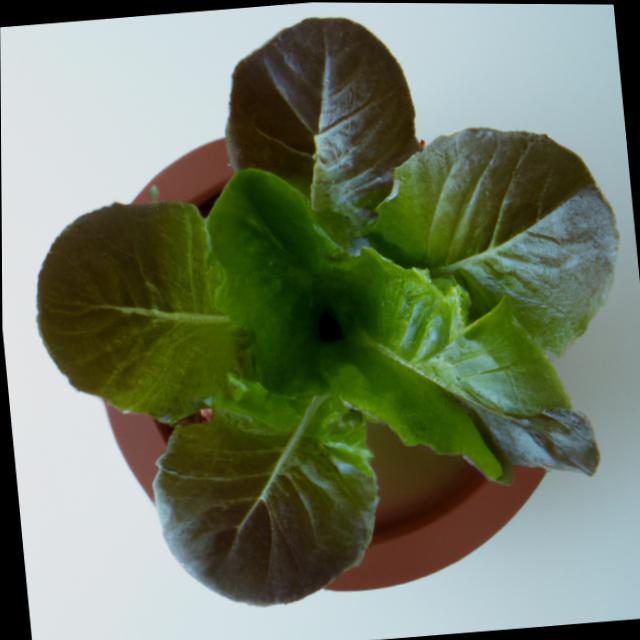-P: (4, 0, 640, 638)
